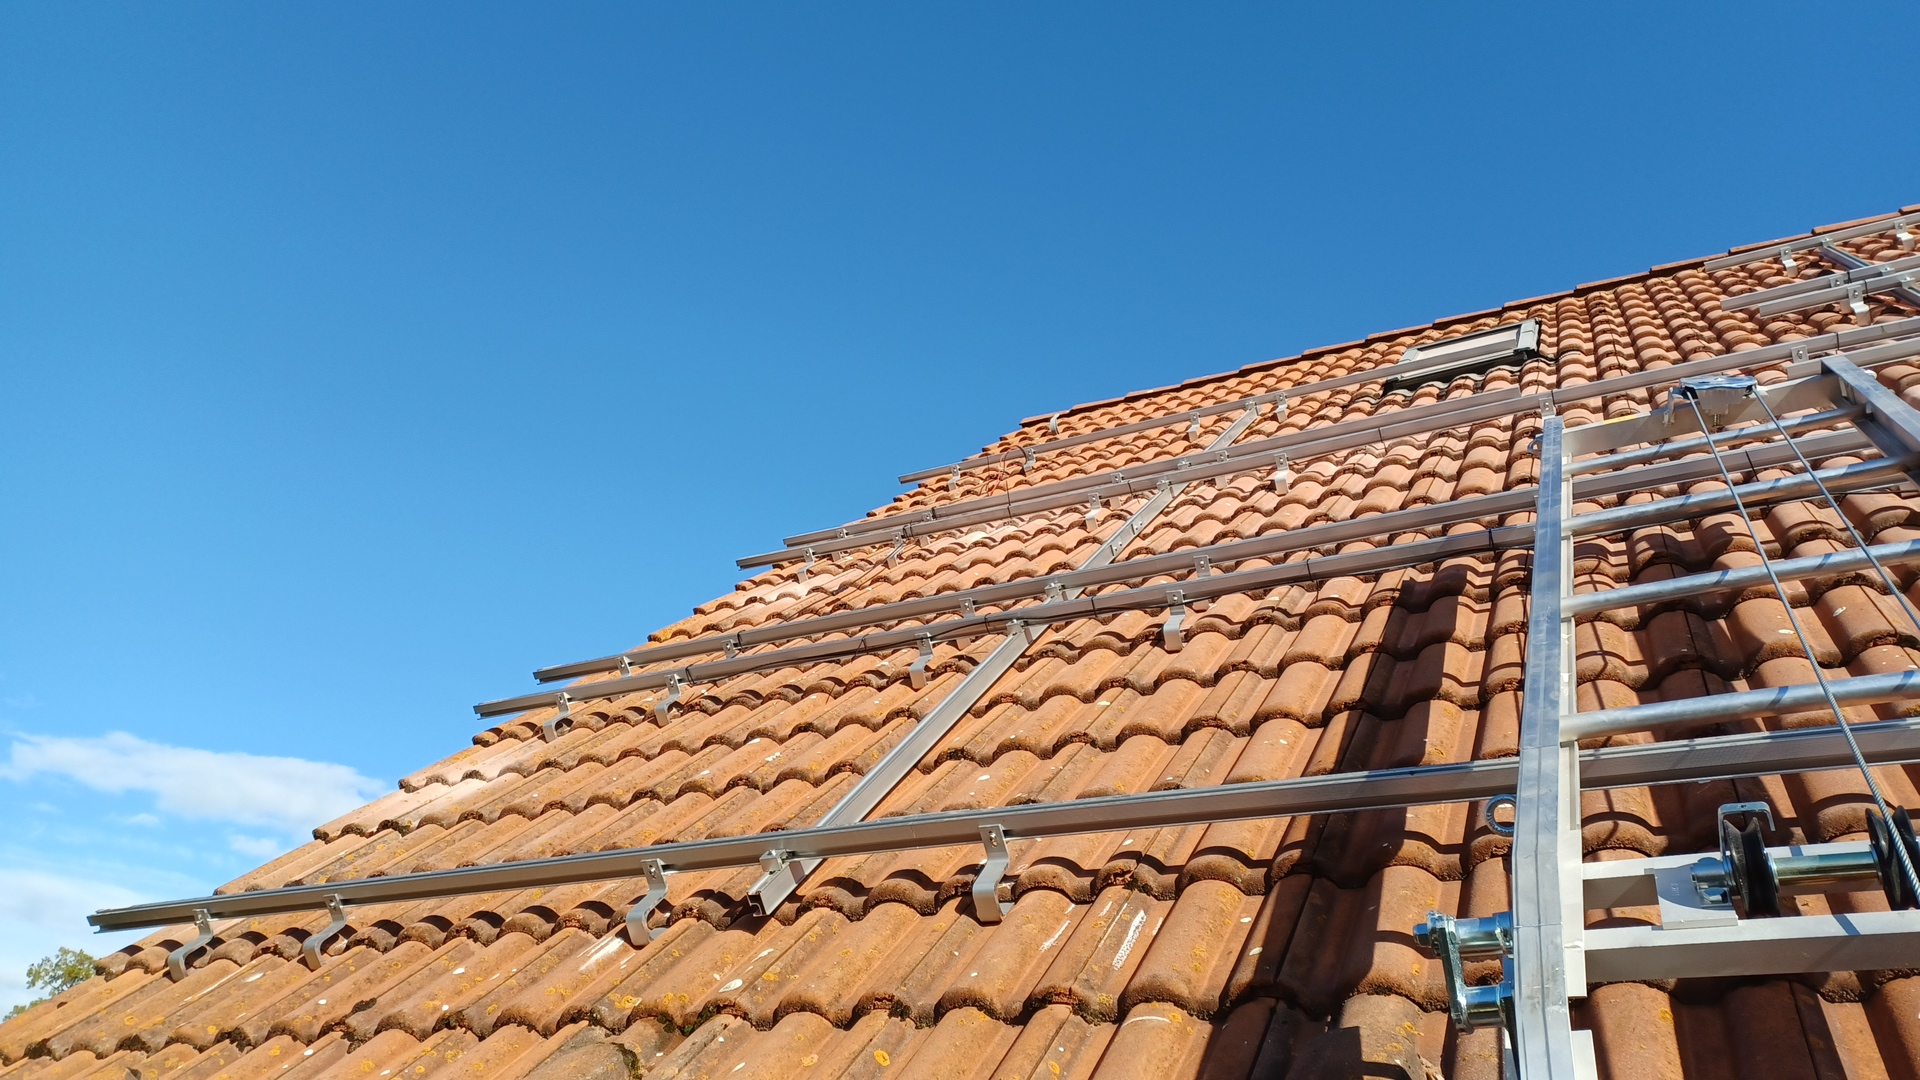hook: (972, 824, 1015, 923), (626, 858, 669, 947), (167, 909, 214, 985), (302, 893, 345, 973), (1163, 589, 1185, 653), (655, 673, 680, 727), (910, 632, 934, 688), (545, 692, 571, 742), (1828, 276, 1854, 315), (611, 655, 632, 704), (956, 597, 976, 649), (1847, 284, 1870, 327), (1193, 555, 1211, 611), (716, 640, 736, 687), (1894, 219, 1915, 252), (1087, 492, 1102, 531), (1274, 454, 1288, 496), (798, 547, 815, 583), (1779, 245, 1797, 278), (887, 531, 903, 568), (1215, 448, 1228, 487), (832, 527, 847, 560), (920, 512, 934, 547), (1110, 472, 1122, 510), (1539, 398, 1553, 427), (1276, 392, 1288, 423), (1789, 344, 1809, 363), (1188, 411, 1200, 440), (1025, 448, 1036, 476), (949, 464, 961, 489)
